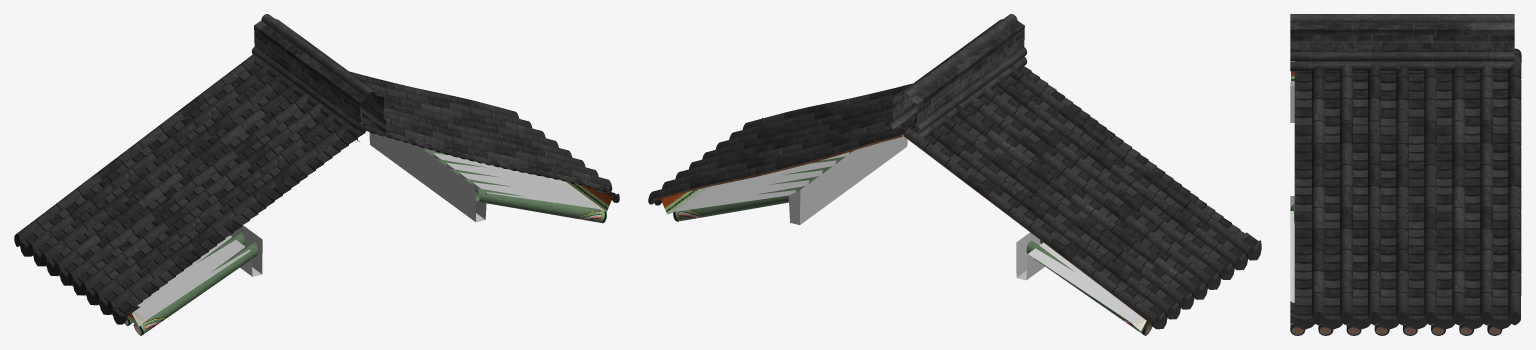
File: SM_Giwa02B_a3.fbx
The picture shows the model from 3 angles, left to right: view 1: azimuth 30°, elevation 25°; view 2: azimuth 150°, elevation 25°; view 3: azimuth 270°, elevation 25°; orthographic projection. The views are drawn at different scales.
Parts seen in each view (by area): view 1: SM_Giwa02B_a3; view 2: SM_Giwa02B_a3; view 3: SM_Giwa02B_a3.
Boxes of the visible parts, x1,y1,x2,y2 form: SM_Giwa02B_a3: (14, 14, 619, 335); SM_Giwa02B_a3: (648, 14, 1261, 335); SM_Giwa02B_a3: (1290, 14, 1521, 335).
Size of the model in its own units: 668 by 253 by 243.
